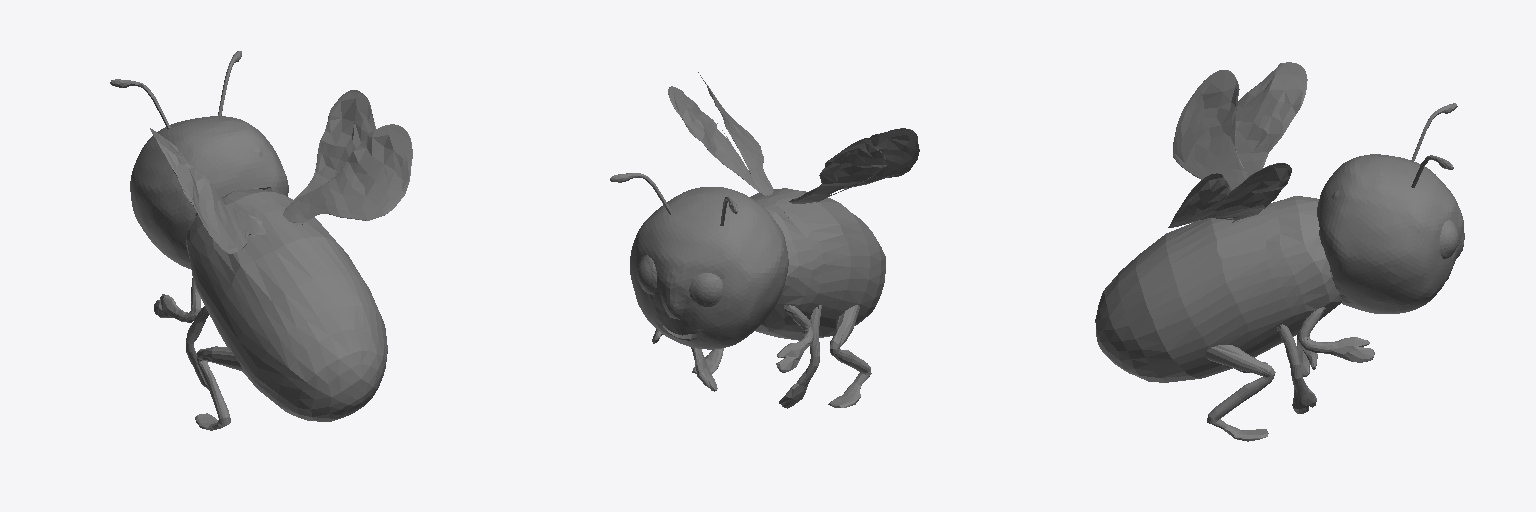
Rendered from Bee_000004.obj.
3 views of the same model, side by side, from view 1: azimuth 30°, elevation 25°; view 2: azimuth 150°, elevation 25°; view 3: azimuth 270°, elevation 25° (orthographic).
Size of the model in its own units: 0.2348 by 0.2928 by 0.3376.